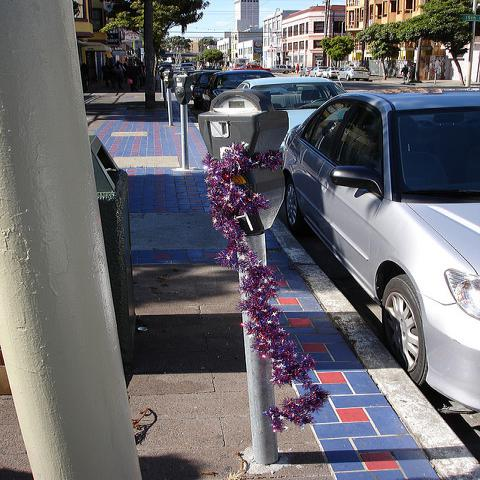car: (280, 90, 479, 418), (238, 74, 346, 130), (192, 70, 273, 109), (337, 66, 371, 80), (320, 67, 342, 78), (270, 65, 295, 74), (309, 66, 328, 77), (180, 63, 194, 71), (305, 67, 316, 75)
